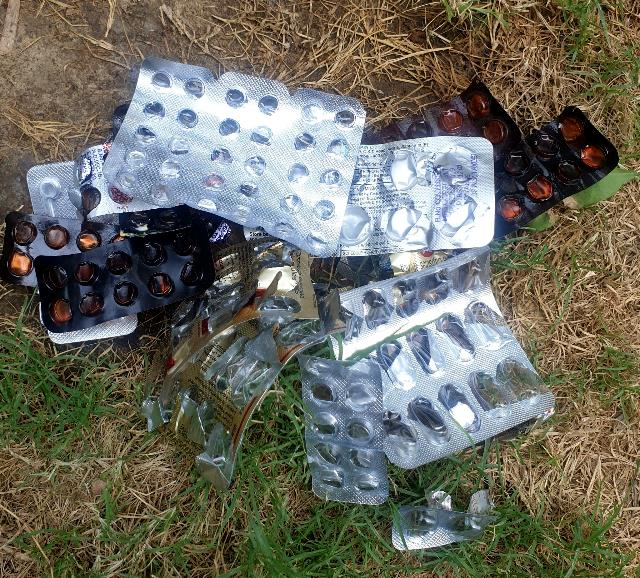medicine: (0, 33, 576, 559)
